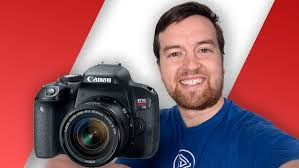camera: (34, 67, 158, 165)
